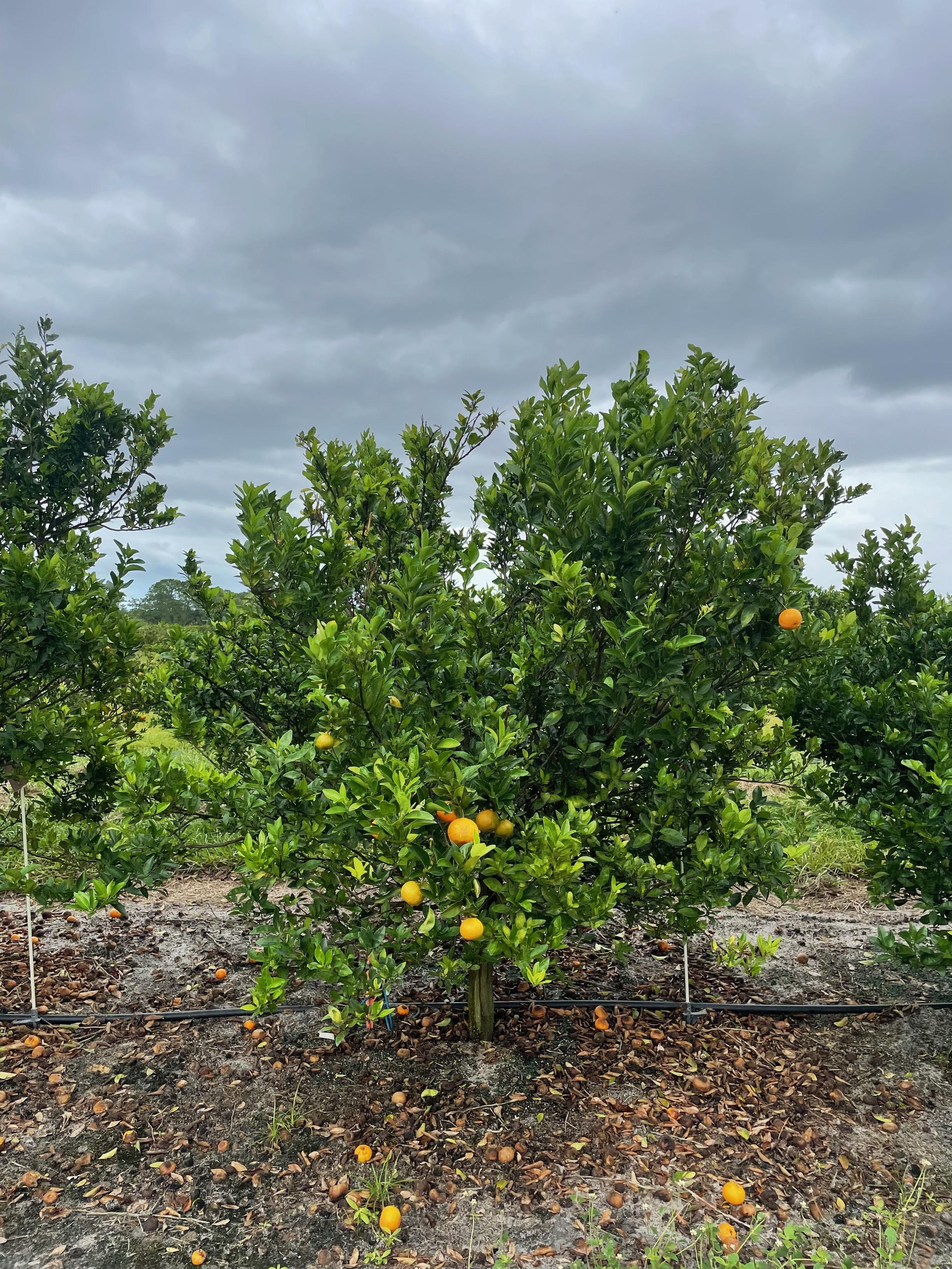fruit_on_ground: (446, 816, 480, 848), (434, 795, 466, 825), (398, 878, 428, 908), (457, 914, 487, 943), (775, 604, 805, 633), (474, 807, 500, 834), (492, 816, 516, 841), (312, 730, 337, 753)
fruit_on_tree: (376, 1203, 404, 1234), (720, 1178, 748, 1207), (715, 1221, 741, 1249), (692, 1073, 716, 1093), (353, 1142, 374, 1163), (189, 1247, 208, 1267), (120, 1127, 140, 1146), (496, 1145, 516, 1164), (592, 1014, 613, 1032), (592, 1003, 611, 1022), (606, 1190, 625, 1209), (528, 1001, 548, 1019), (738, 1202, 759, 1219), (648, 1025, 667, 1043), (654, 937, 674, 953), (249, 1027, 267, 1043), (390, 1089, 408, 1105), (664, 1105, 681, 1121), (483, 1145, 499, 1162), (23, 1033, 41, 1048), (515, 978, 532, 993), (394, 1001, 411, 1016), (794, 952, 810, 967), (213, 965, 229, 980), (513, 1140, 529, 1154), (242, 1017, 257, 1031), (108, 906, 124, 919), (64, 911, 79, 924), (270, 1059, 284, 1071), (10, 930, 22, 941)
